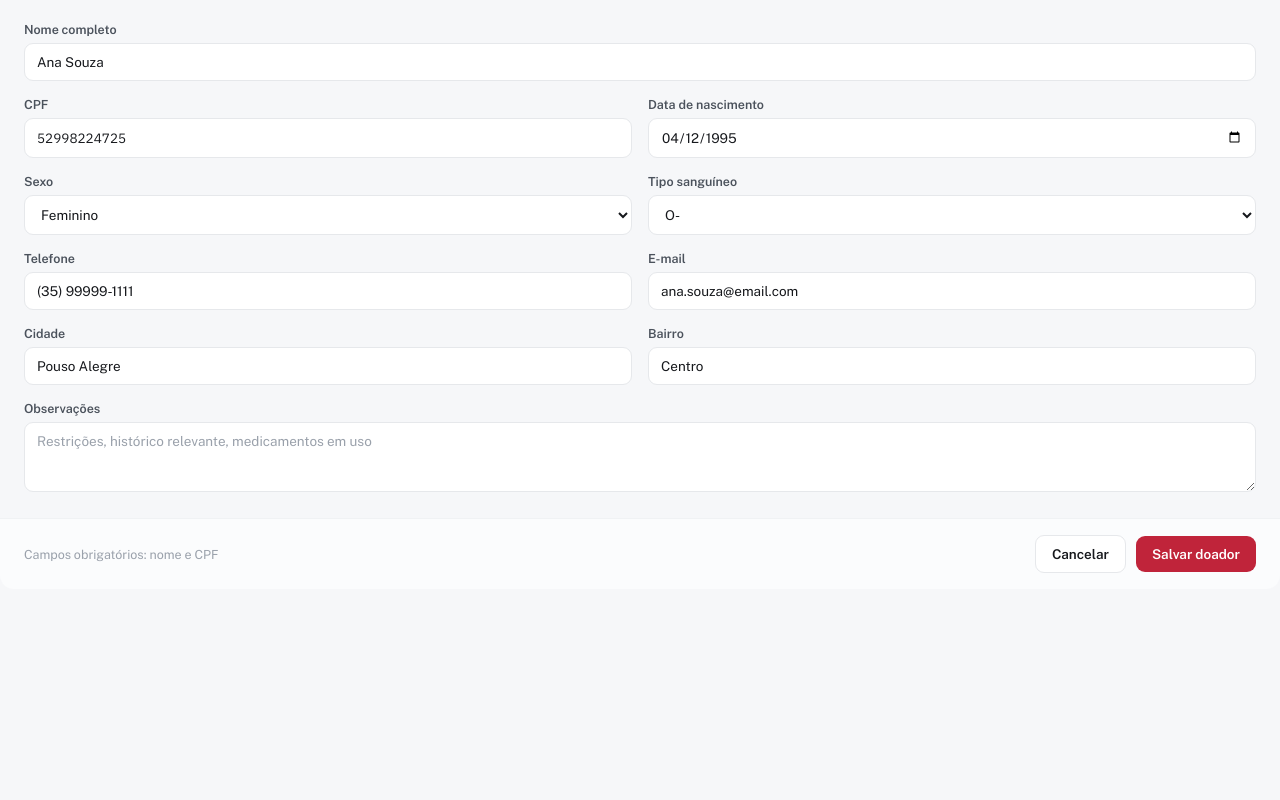
Test: DoadorForm › não envia a edição quando o nome é apagado
Clear the field labelled "Nome completo" at (640, 62), box [24,43,1256,81]
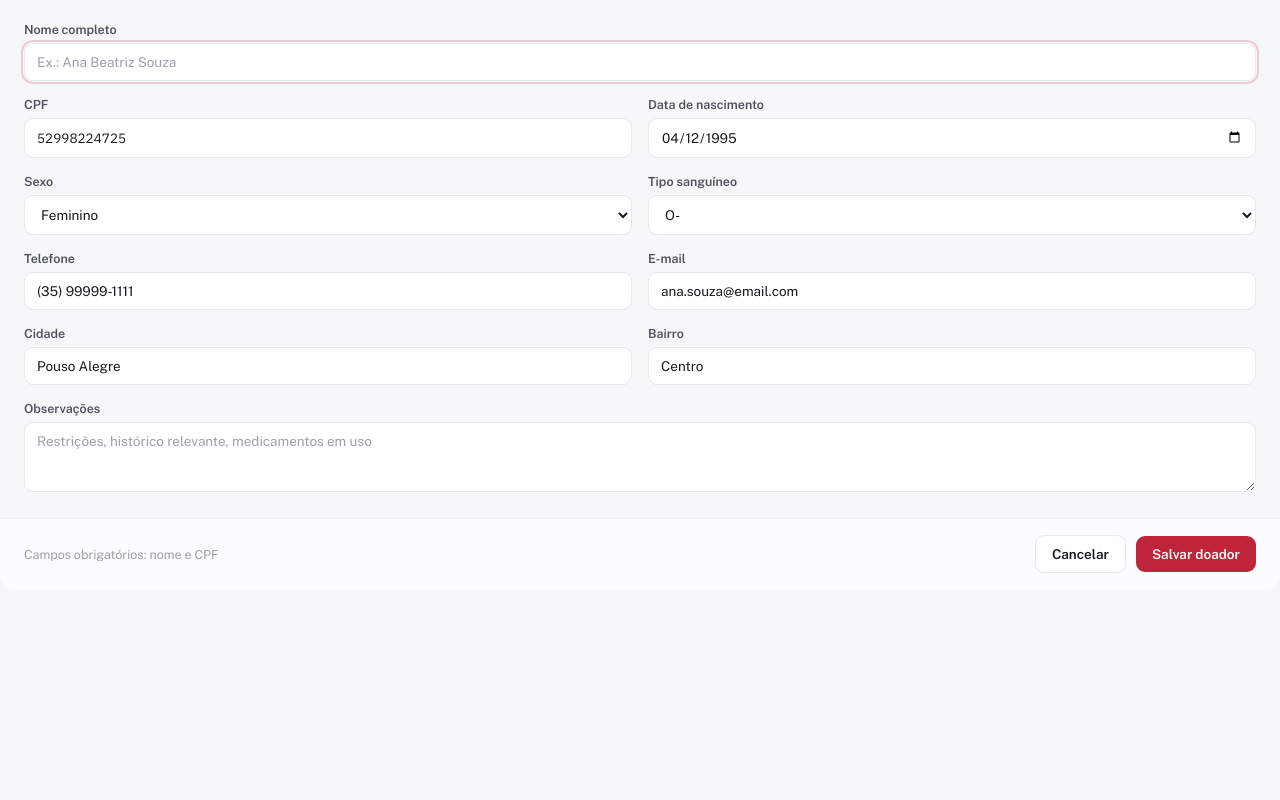
Click the button "Salvar doador" at (1196, 554), box [1136,536,1256,572]
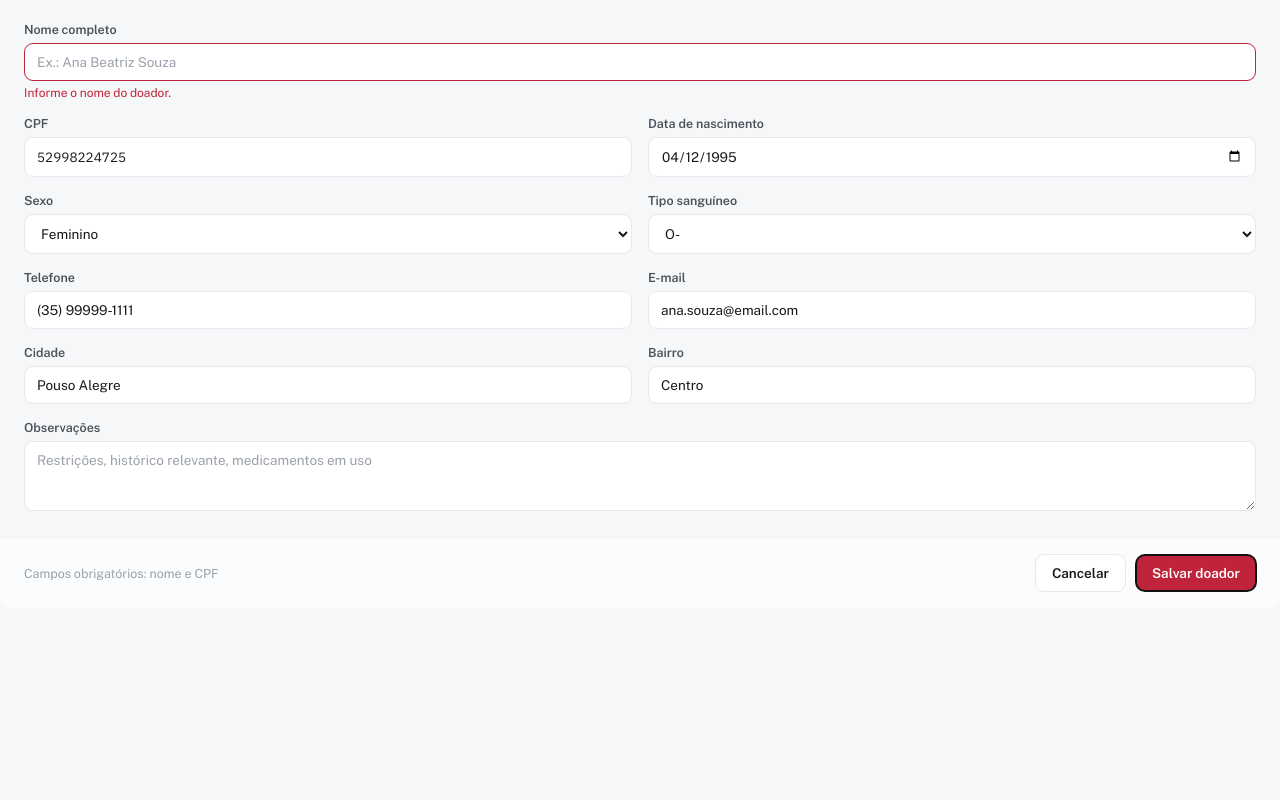
Expected: the text "Informe o nome do doador." is shown, [24,86,171,100]
